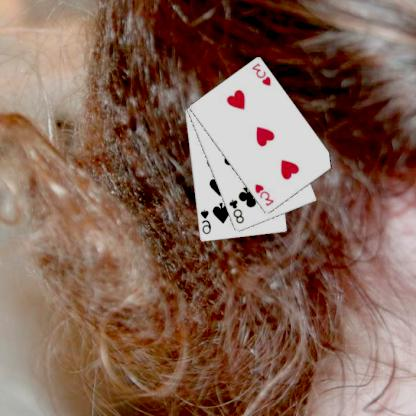3H: (254, 182, 277, 208), (251, 61, 274, 87)
8C: (228, 197, 247, 225)
9S: (200, 207, 214, 236)
